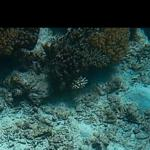dead: (2, 28, 148, 148)
